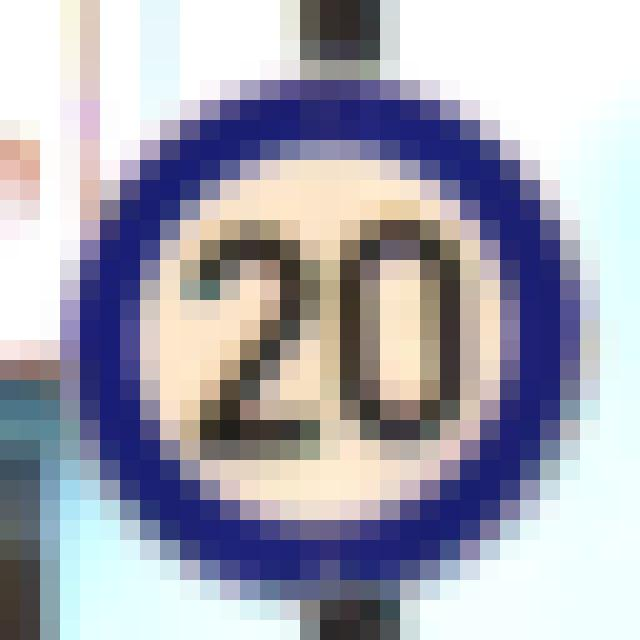SPEED LIMIT 20: (49, 82, 609, 606)
